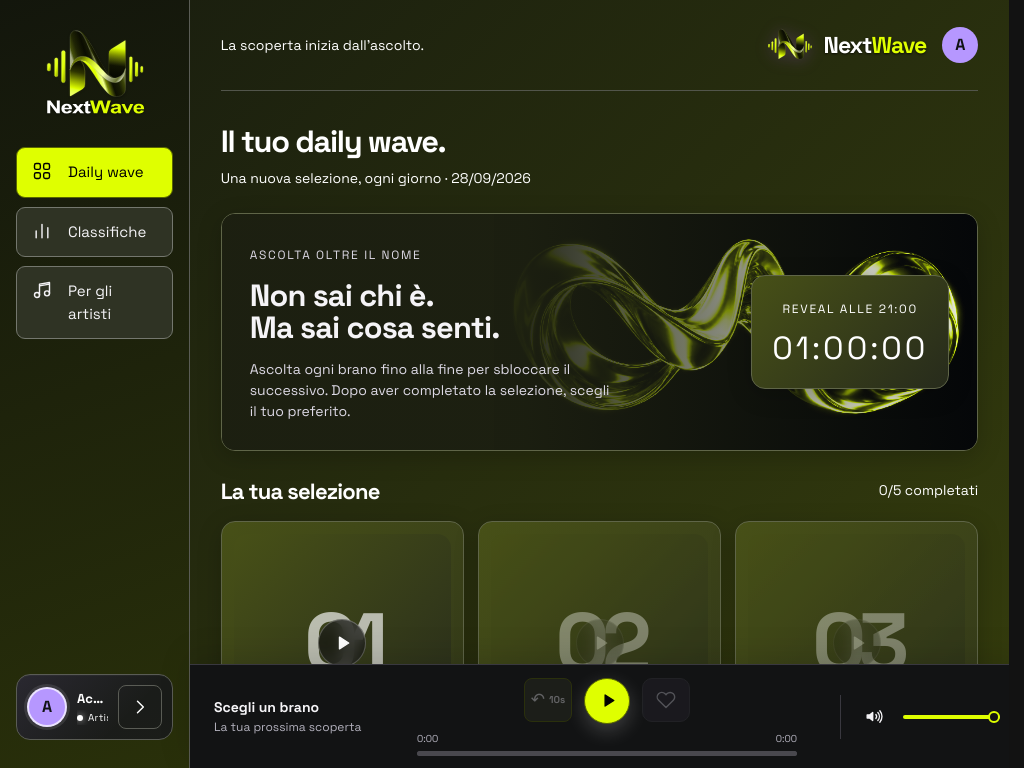
account cloud › la candidatura del mese resta in primo piano e blocca un nuovo caricamento
Expected: the navigation bar named "Navigazione principale" is shown, [16,147,173,339]
Expected: the heading "La tua selezione" is shown, [221,479,380,503]
Click the link "Per gli artisti" at x=94, y=303, box [16,266,173,339]
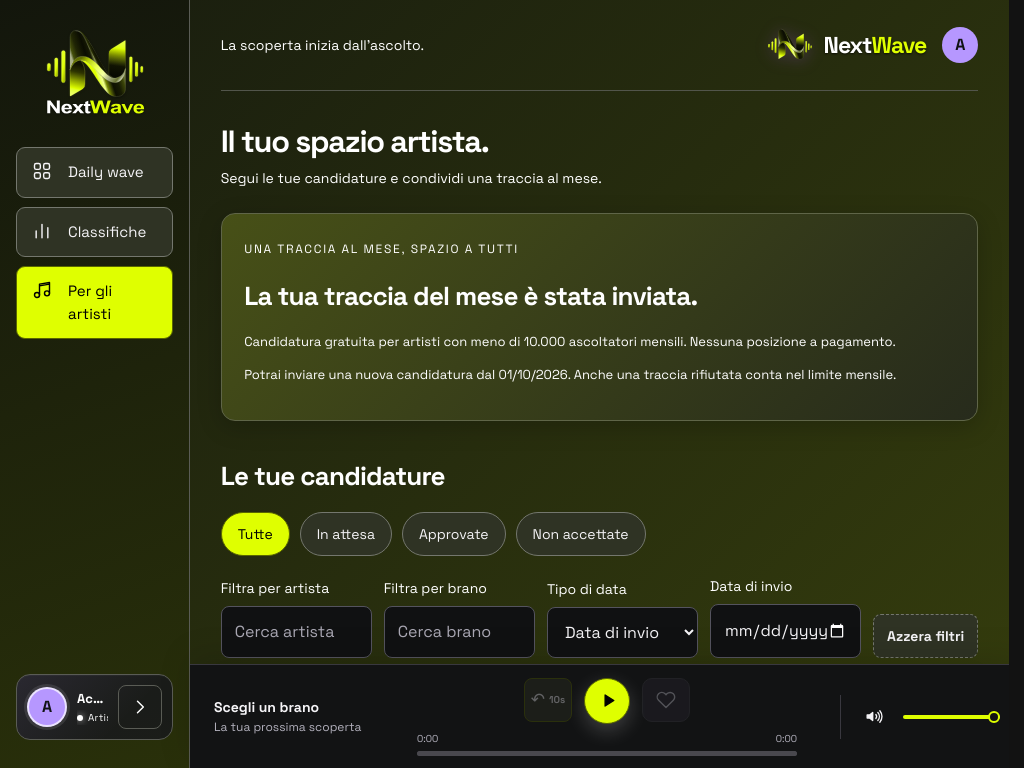
Expected: the heading "La mia traccia" is shown, [242,695,363,715]
Result: the heading "La tua traccia del mese è stata inviata." is shown at [244,279,698,313]
